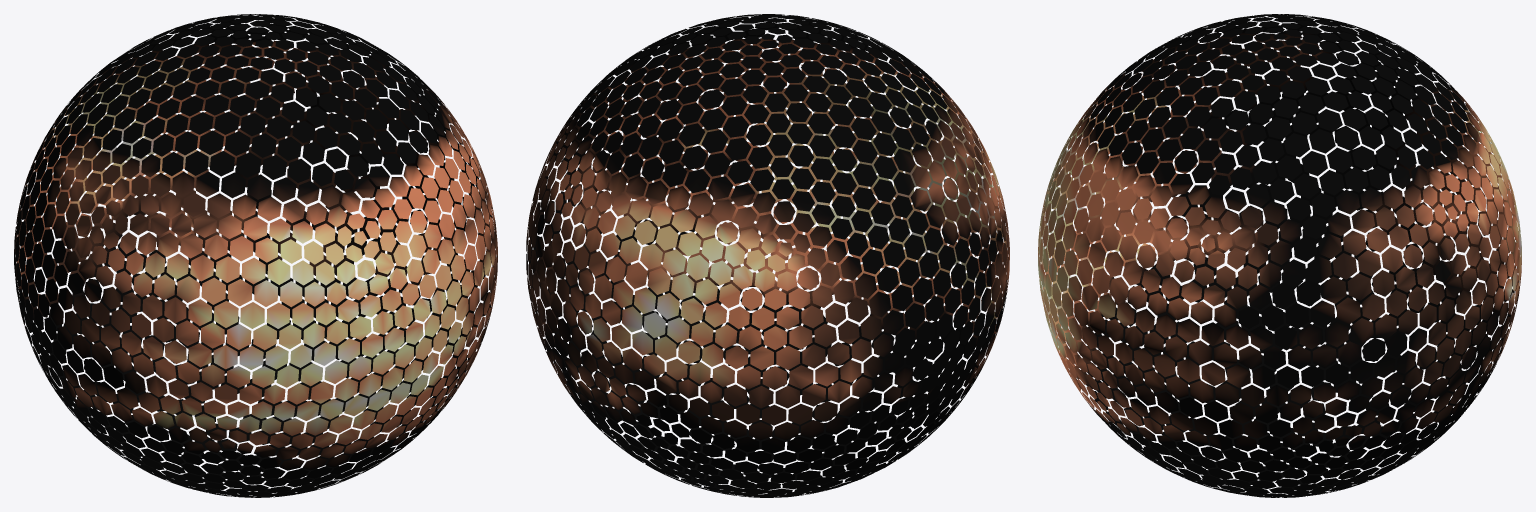
File: plasma_titan.fbx
The picture shows the model from 3 angles, left to right: view 1: azimuth 30°, elevation 25°; view 2: azimuth 150°, elevation 25°; view 3: azimuth 270°, elevation 25°; orthographic projection.
Parts seen in each view (by area): view 1: plasma_titan; view 2: plasma_titan; view 3: plasma_titan.
Boxes of the visible parts, x1,y1,x2,y2 form: plasma_titan: [14, 14, 497, 497]; plasma_titan: [526, 14, 1009, 497]; plasma_titan: [1038, 14, 1521, 497].
Size of the model in its own units: 199 by 199 by 199.
